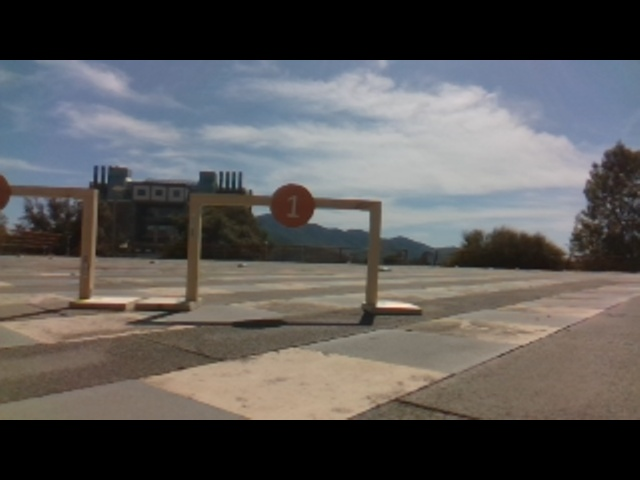checkpoint_foot: (135, 288, 203, 311), (360, 292, 425, 314), (68, 289, 135, 309)
checkpoint_side: (79, 185, 96, 300), (185, 192, 201, 299), (366, 193, 382, 300)
checkpoint_signal: (186, 191, 386, 216)
one: (271, 180, 316, 229)
